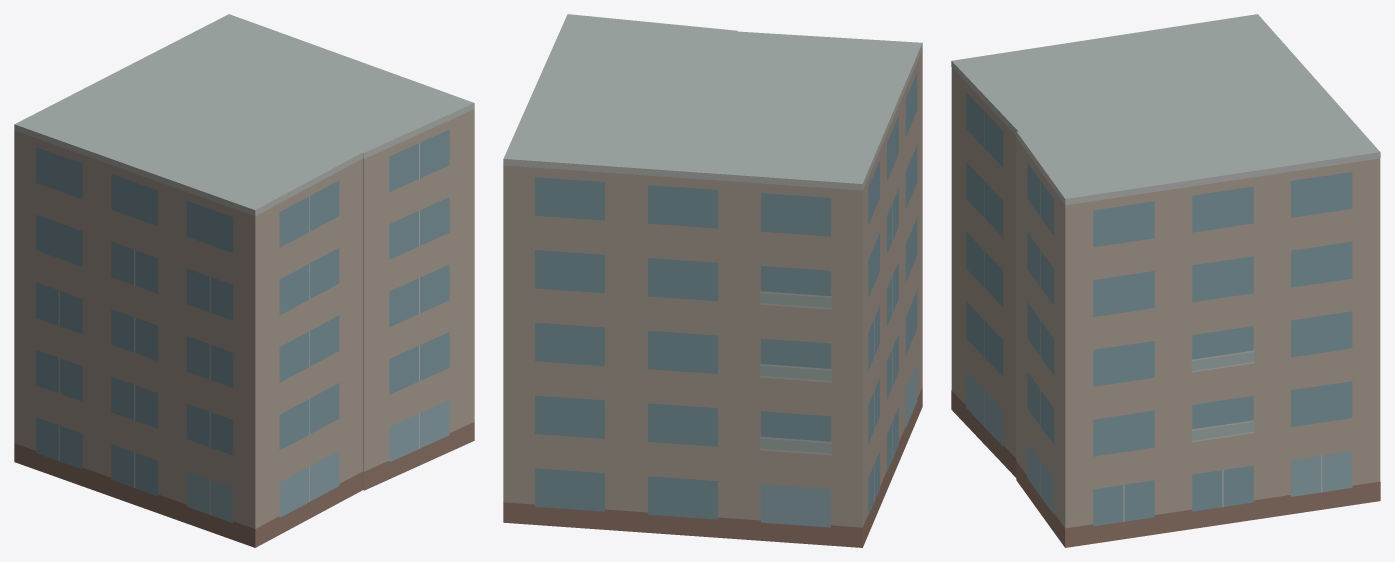
Rendered from survey-upis-32846445.glb.
3 renders of one model, left to right at view 1: azimuth 30°, elevation 25°; view 2: azimuth 150°, elevation 25°; view 3: azimuth 270°, elevation 25°, orthographic. The views are drawn at different scales.
Visible parts, largest first — view 1: survey-upis-32846445.tmp; view 2: survey-upis-32846445.tmp; view 3: survey-upis-32846445.tmp.
Part boxes in pixels (x1,y1,x2,y2): survey-upis-32846445.tmp: [14, 14, 474, 547]; survey-upis-32846445.tmp: [503, 14, 922, 547]; survey-upis-32846445.tmp: [951, 14, 1380, 547].
Bounding box in the file's own units: 15.48 × 13.6 × 15.17.
